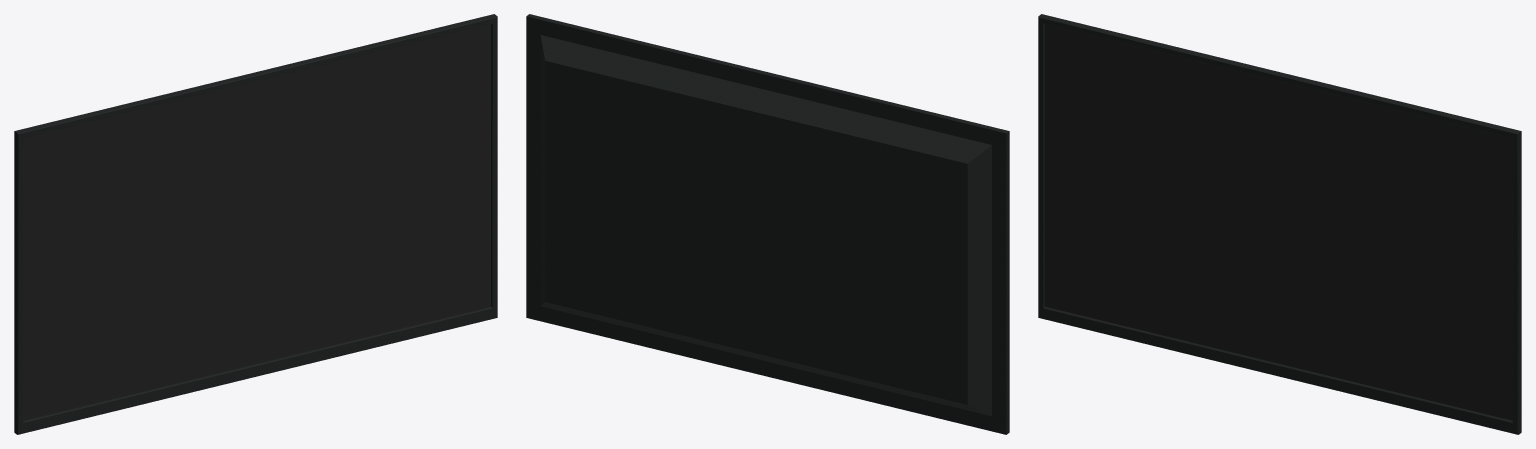
3 views of the same model, side by side, from view 1: azimuth 30°, elevation 25°; view 2: azimuth 150°, elevation 25°; view 3: azimuth 330°, elevation 25° (orthographic).
Visible parts, largest first — view 1: tv; view 2: tv; view 3: tv.
Part boxes in pixels (x1,y1,x2,y2): tv: (14, 14, 497, 434); tv: (526, 14, 1009, 434); tv: (1038, 14, 1521, 434).
Bounding box in the file's own units: 429 × 257 × 21.03.
